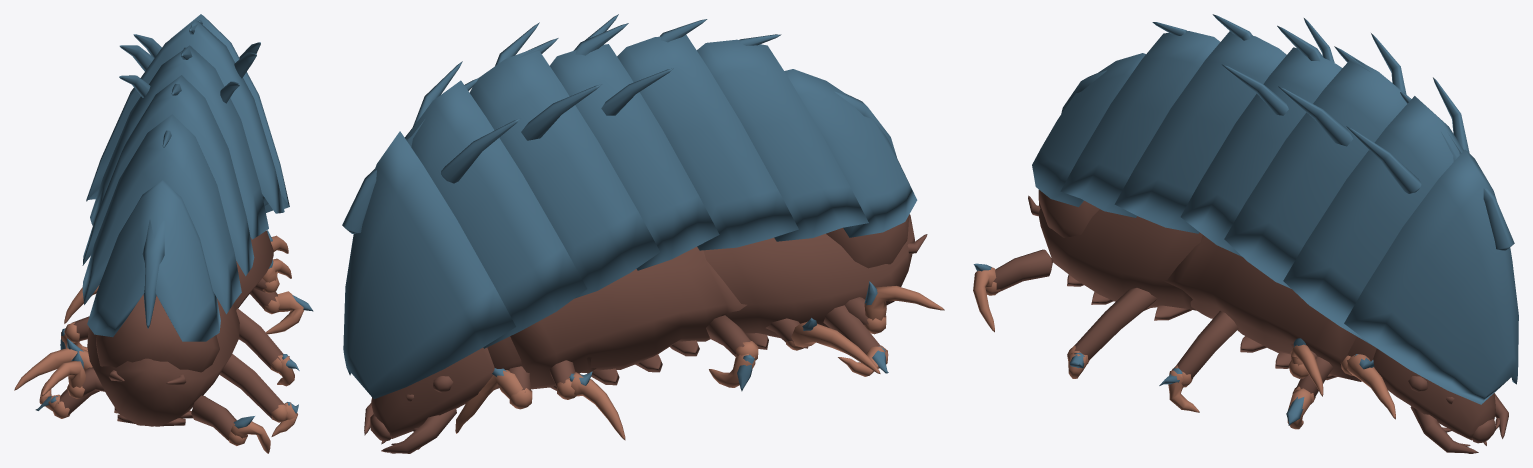
Rendered from big-spitter-corpse-1.glb.
3 renders of one model, left to right at view 1: azimuth 30°, elevation 25°; view 2: azimuth 150°, elevation 25°; view 3: azimuth 270°, elevation 25°, orthographic. The views are drawn at different scales.
Parts seen in each view (by area): view 1: body; view 2: body; view 3: body.
Part boxes in pixels (bbox=[...]): body: bbox=[14, 14, 313, 453]; body: bbox=[342, 14, 944, 453]; body: bbox=[973, 14, 1518, 453].
Size of the model in its own units: 2.56 by 2.18 by 2.98.
